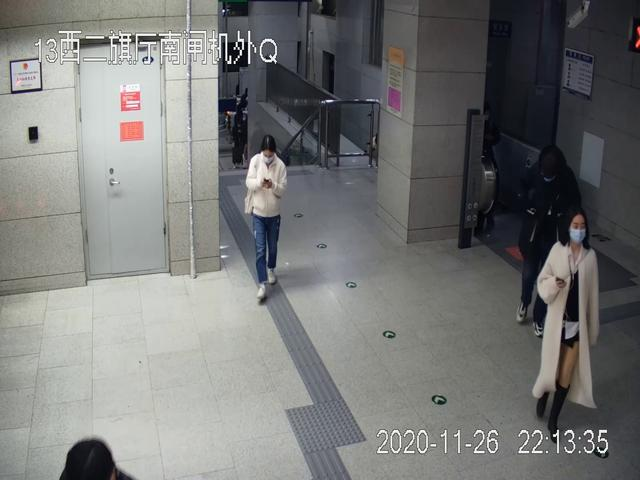person: (532, 207, 597, 443), (515, 146, 588, 335), (246, 134, 285, 300)
